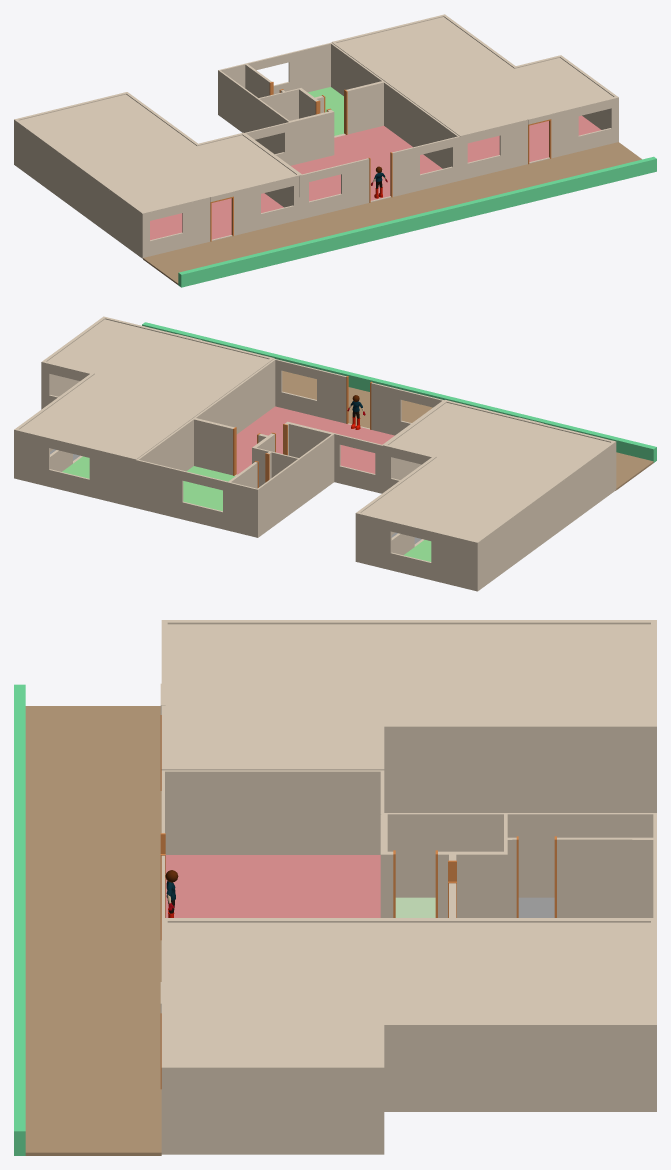
Rendered from MP_HDBGameLevel_SlicedUpdated_V2.fbx.
3 renders of one model, top to bottom at view 1: azimuth 30°, elevation 25°; view 2: azimuth 150°, elevation 25°; view 3: azimuth 270°, elevation 25°, orthographic. The views are drawn at different scales.
Parts seen in each view (by area): view 1: LivingRoom_Slice.002, LivingRoom_Slice.001, Player_Flat, Cube.006, LivingRoom_Slice, BombShelter_Slice, Bathroom_Slice, Bedroom_Slice2, Bedroom_Slice; view 2: LivingRoom_Slice.002, LivingRoom_Slice.001, Player_Flat, Cube.006, LivingRoom_Slice, Bedroom_Slice2, Bathroom_Slice, BombShelter_Slice, Bedroom_Slice; view 3: LivingRoom_Slice.001, LivingRoom_Slice.002, Cube.006, Player_Flat, Bathroom_Slice, Bedroom_Slice, BombShelter_Slice.
Boxes of the visible parts, bbox=[...] form: LivingRoom_Slice.002: bbox=[14, 92, 301, 258]; LivingRoom_Slice.001: bbox=[331, 14, 618, 180]; Player_Flat: bbox=[218, 42, 460, 219]; Cube.006: bbox=[143, 142, 656, 287]; LivingRoom_Slice: bbox=[302, 136, 458, 196]; BombShelter_Slice: bbox=[290, 108, 334, 143]; Bathroom_Slice: bbox=[245, 64, 286, 114]; Bedroom_Slice2: bbox=[344, 81, 383, 113]; Bedroom_Slice: bbox=[286, 88, 325, 116]; LivingRoom_Slice.002: bbox=[355, 400, 616, 591]; LivingRoom_Slice.001: bbox=[14, 316, 274, 507]; Player_Flat: bbox=[136, 358, 444, 537]; Cube.006: bbox=[142, 322, 656, 490]; LivingRoom_Slice: bbox=[275, 359, 442, 413]; Bedroom_Slice2: bbox=[194, 418, 236, 452]; Bathroom_Slice: bbox=[228, 451, 298, 487]; BombShelter_Slice: bbox=[283, 421, 332, 451]; Bedroom_Slice: bbox=[252, 432, 275, 473]; LivingRoom_Slice.001: bbox=[160, 918, 656, 1154]; LivingRoom_Slice.002: bbox=[160, 620, 656, 812]; Cube.006: bbox=[14, 684, 161, 1155]; Player_Flat: bbox=[160, 770, 656, 940]; Bathroom_Slice: bbox=[504, 814, 653, 881]; Bedroom_Slice: bbox=[435, 840, 507, 895]; BombShelter_Slice: bbox=[380, 814, 395, 896].
Size of the model in its own units: 2229 by 206 by 1354.
